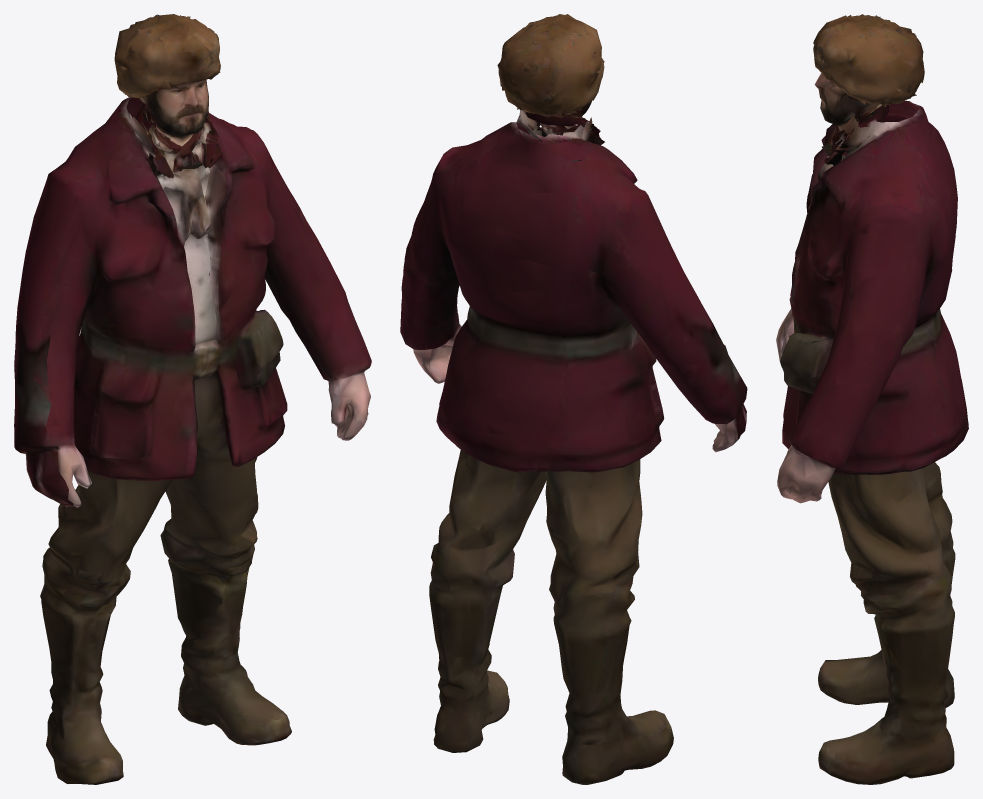
File: trader.phone.glb
The picture shows the model from 3 angles, left to right: view 1: azimuth 30°, elevation 25°; view 2: azimuth 150°, elevation 25°; view 3: azimuth 270°, elevation 25°; orthographic projection. The views are drawn at different scales.
Visible parts, largest first — view 1: trader.phone.raw; view 2: trader.phone.raw; view 3: trader.phone.raw.
Boxes of the visible parts, x1,y1,x2,y2 form: trader.phone.raw: [14, 14, 371, 784]; trader.phone.raw: [400, 14, 747, 784]; trader.phone.raw: [776, 14, 968, 784].
Size of the model in its own units: 0.8869 by 1.79 by 0.4384.
1 material, 1 textured.
